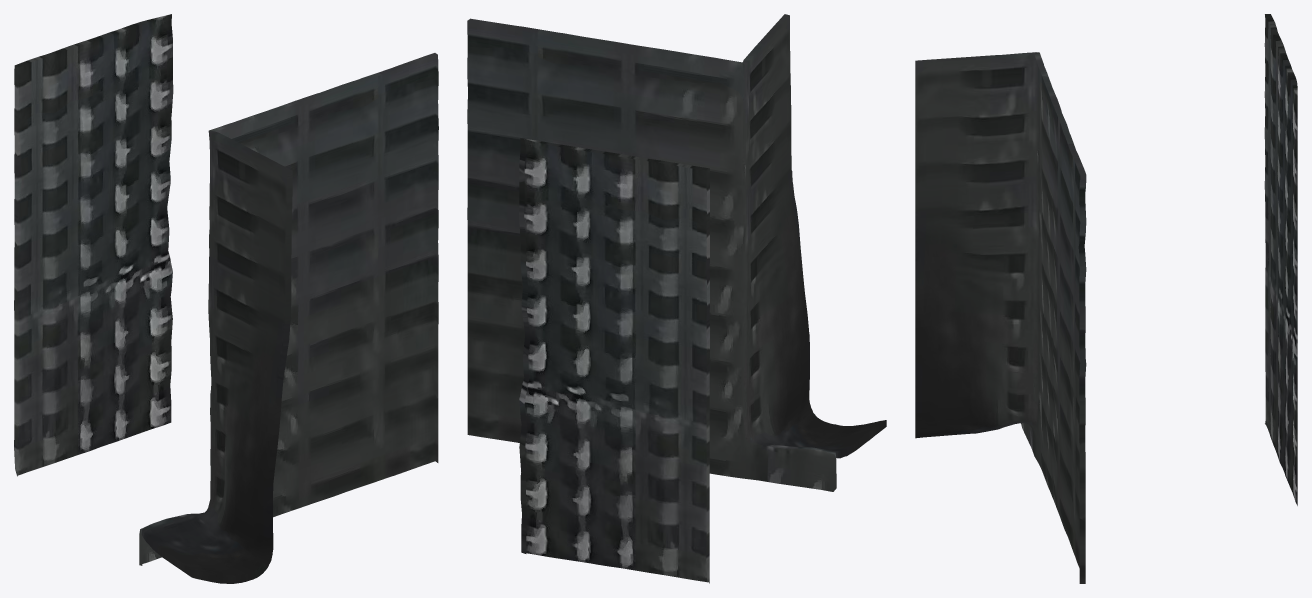
The model's file is z20-167765-405238-h1-yup-uvflip-v3-world.glb.
The picture shows the model from 3 angles, left to right: view 1: azimuth 30°, elevation 25°; view 2: azimuth 150°, elevation 25°; view 3: azimuth 270°, elevation 25°; orthographic projection.
Size of the model in its own units: 30.16 by 35.96 by 30.32.
Materials: 1 (1 with a texture image).
